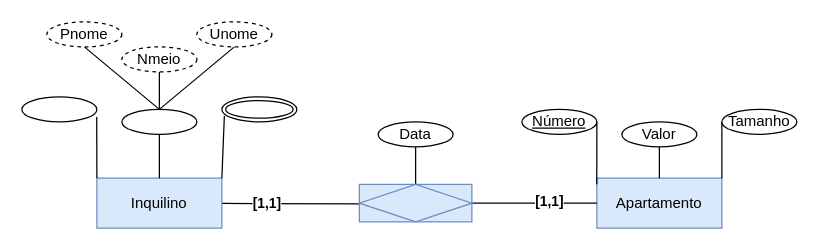
Some shapes in this 819 by 250 pixel diagram are drawn without their labels. The shapes that lost their labels are listed below. From the top down, each one's centre as x and y in pixels, then its label:
the point at 59,109: CPF
the point at 159,121: Nome
the point at 259,109: Telefone
the point at 415,202: Aluga
